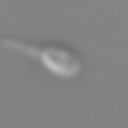normal: (1, 34, 41, 65)
